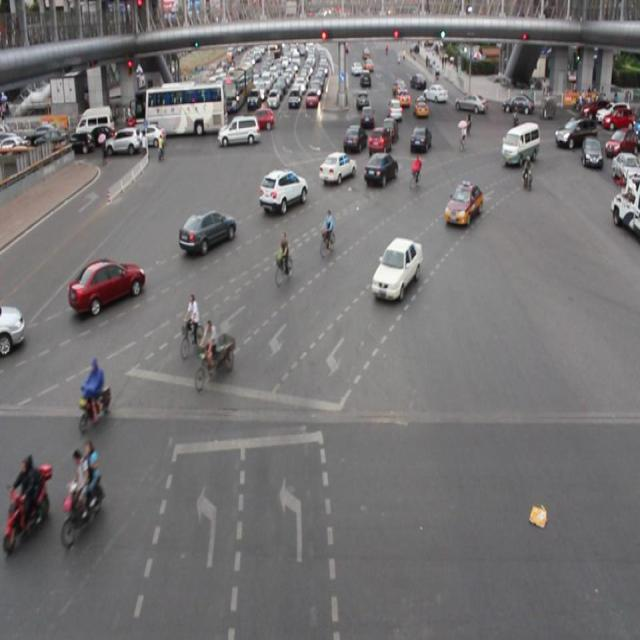car: (68, 254, 147, 314), (369, 236, 422, 303), (178, 209, 238, 253), (257, 167, 309, 215), (442, 178, 483, 228), (318, 149, 356, 185), (362, 151, 398, 187), (341, 122, 367, 154), (367, 124, 392, 156), (407, 126, 431, 154)
truck: (499, 121, 539, 166), (1, 298, 28, 362)
